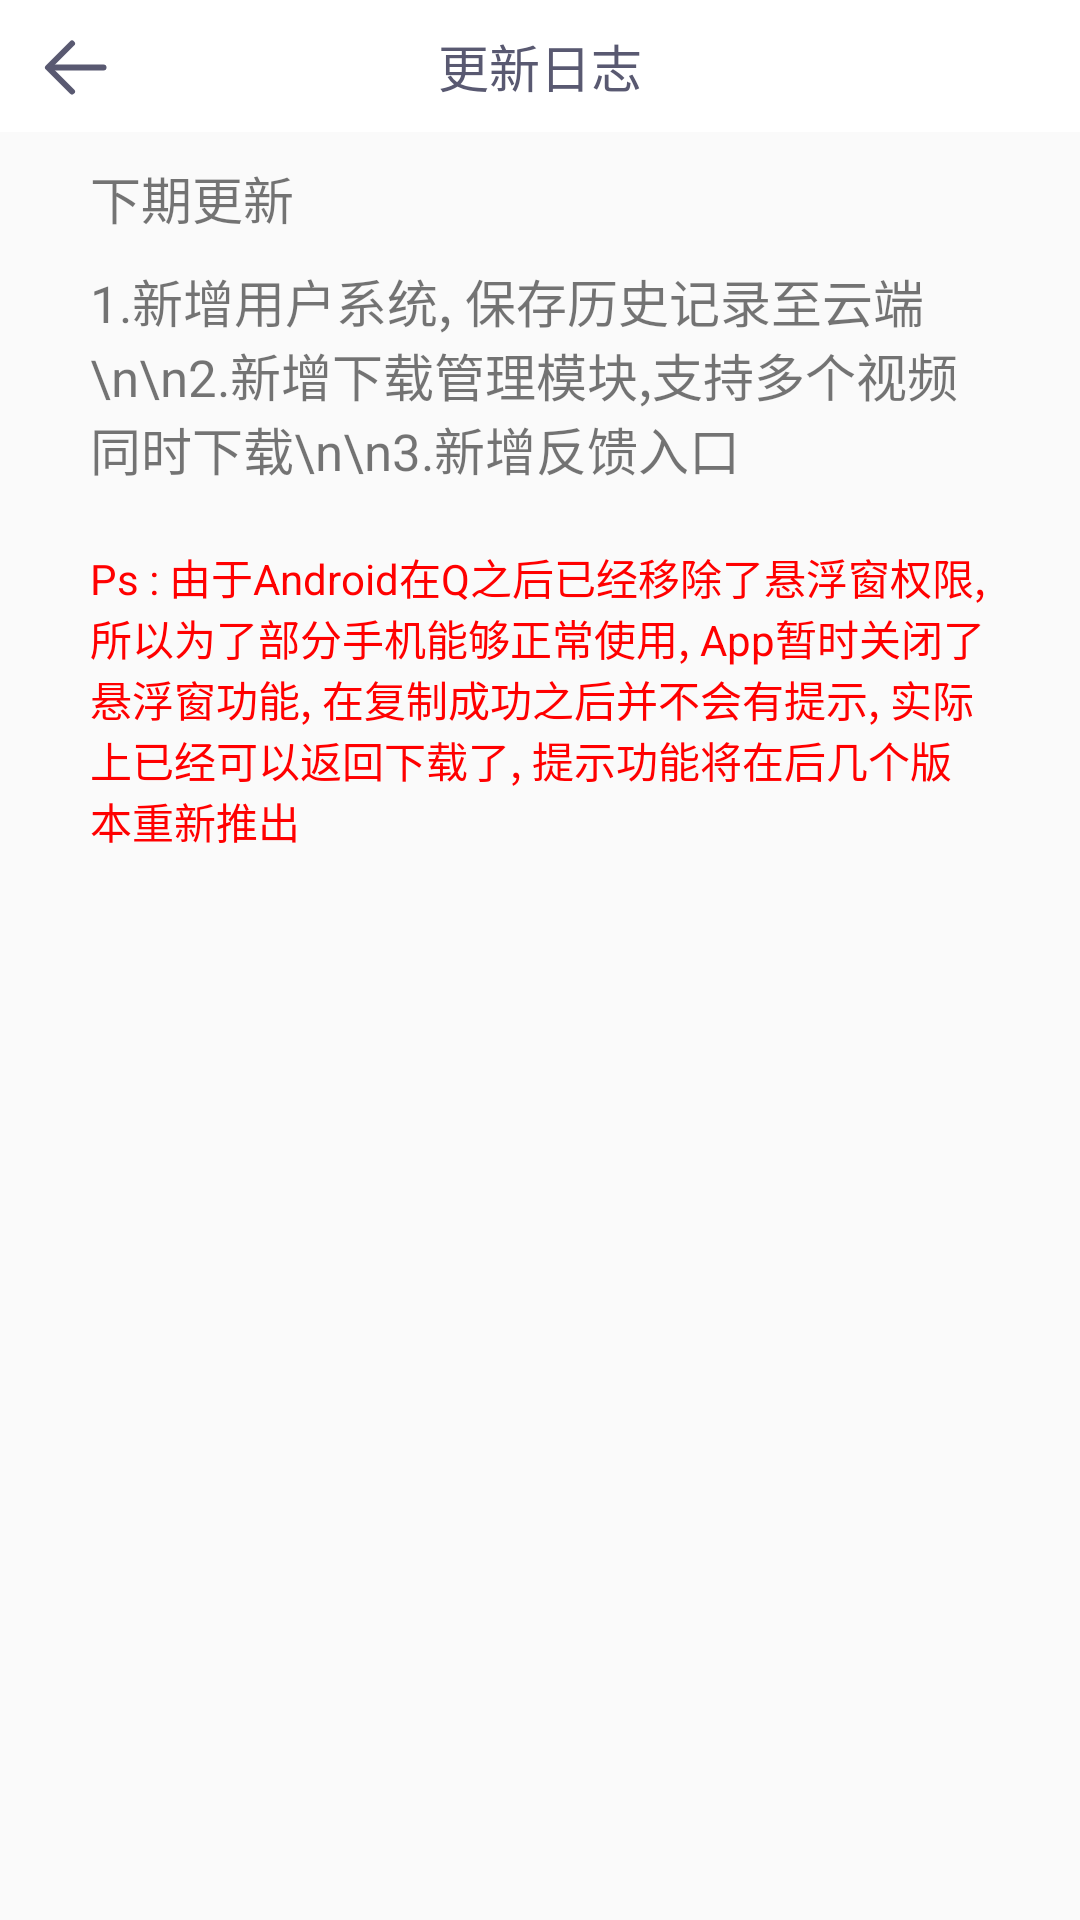

Icon bounding boxes for this 1080px x 1920px phone screenshot, format (x1, y1, x2, y2):
back: (45, 40, 107, 95)
